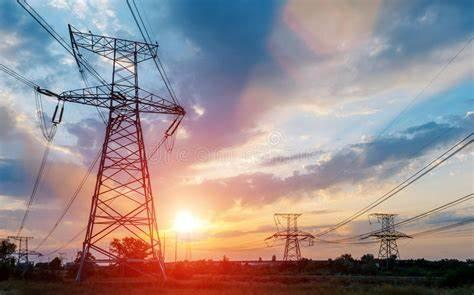power_tower: (29, 16, 191, 280), (361, 210, 415, 270), (268, 210, 315, 274)
